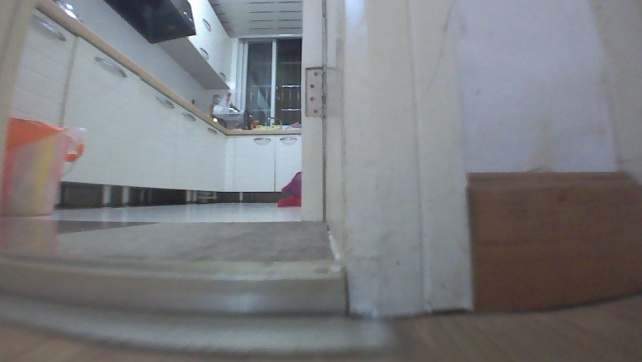cupboard: (12, 0, 301, 208)
